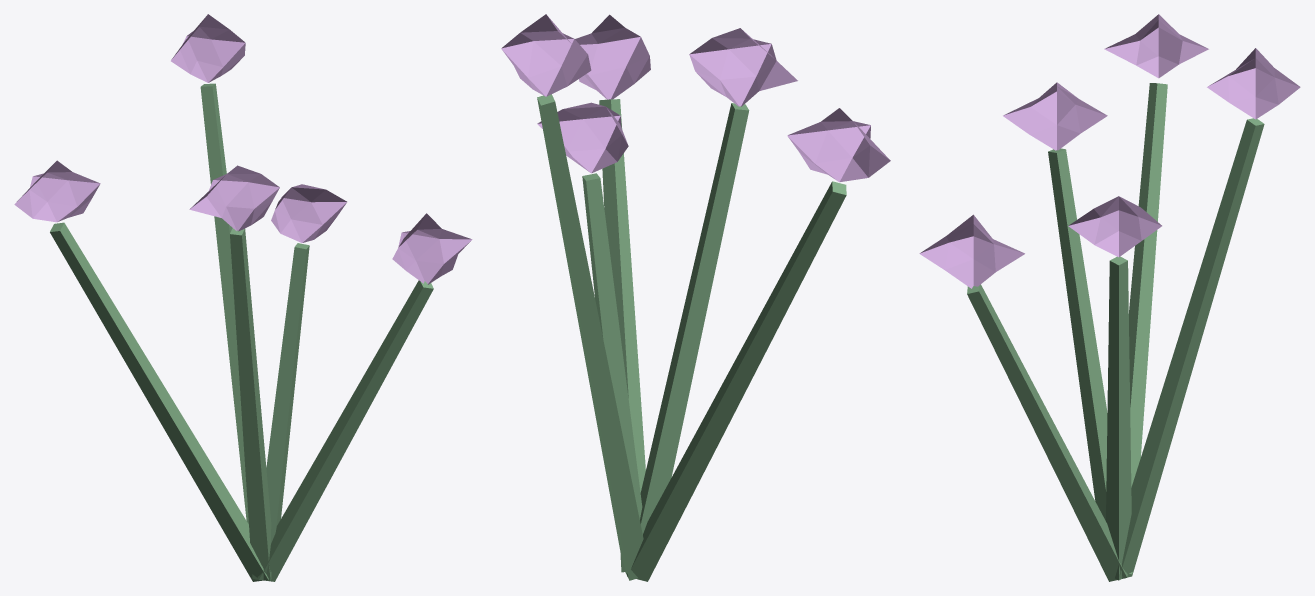
File: flower_v03.glb
3 renders of one model, left to right at view 1: azimuth 30°, elevation 25°; view 2: azimuth 150°, elevation 25°; view 3: azimuth 270°, elevation 25°, orthographic. The views are drawn at different scales.
Parts seen in each view (by area): view 1: lod0; view 2: lod0; view 3: lod0.
Part boxes in pixels (bbox=[...]): lod0: bbox=[14, 14, 472, 581]; lod0: bbox=[501, 14, 890, 581]; lod0: bbox=[919, 14, 1300, 581].
Size of what is drawn, in the model's own units: 0.5814 by 0.7754 by 0.5.
